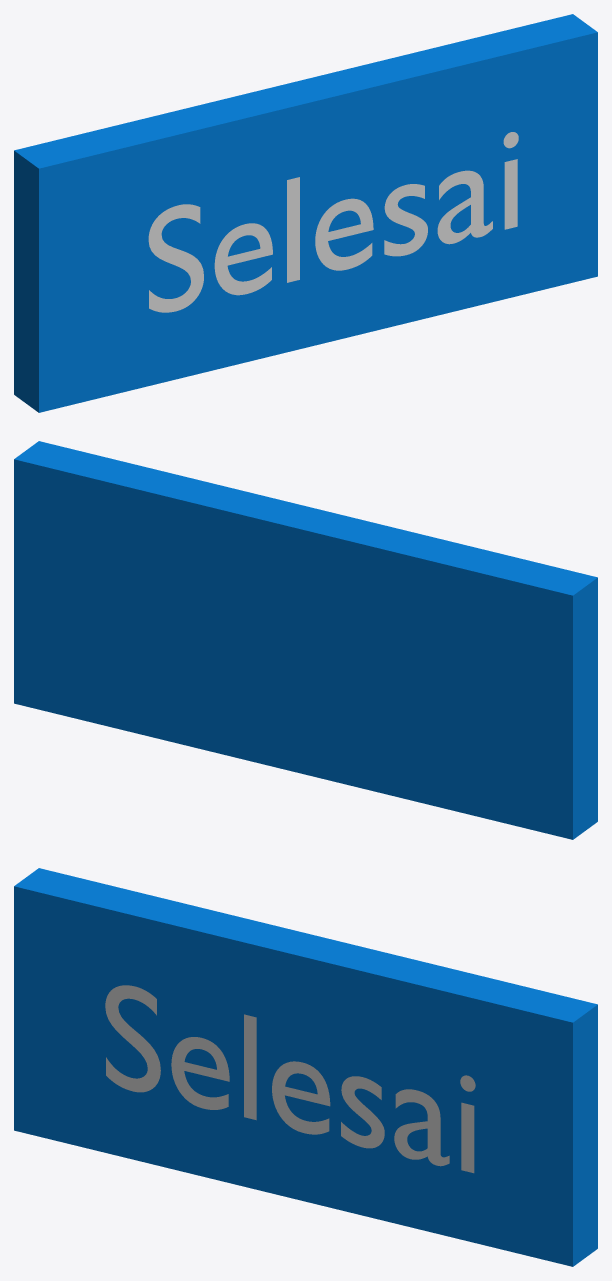
The model's file is finish.glb.
3 views of the same model, one above another, from view 1: azimuth 30°, elevation 25°; view 2: azimuth 150°, elevation 25°; view 3: azimuth 330°, elevation 25° (orthographic).
Parts seen in each view (by area): view 1: Cube, Text; view 2: Cube; view 3: Cube, Text.
Part boxes in pixels (x1,y1,x2,y2): Cube: (14, 14, 597, 412); Text: (148, 132, 518, 312); Cube: (14, 441, 597, 839); Cube: (14, 868, 597, 1266); Text: (105, 985, 475, 1173).
Bounding box in the file's own units: 3.88 × 1.62 × 0.41.
